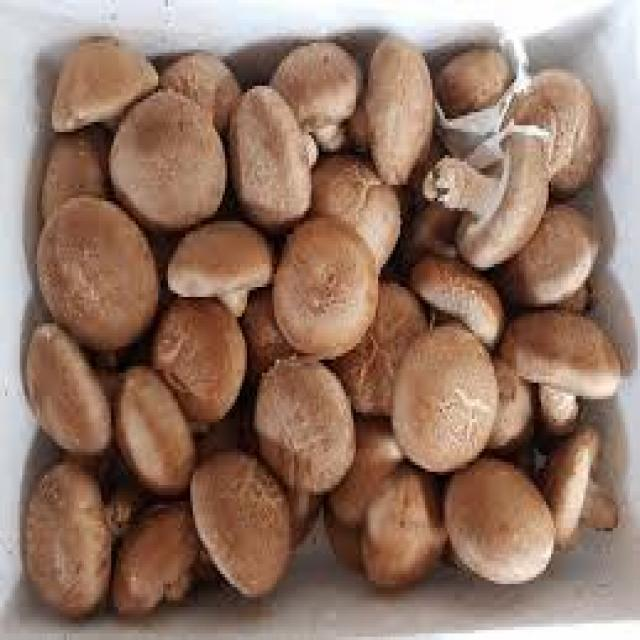mushroom: (37, 198, 158, 353), (425, 122, 551, 269), (110, 89, 228, 231), (274, 218, 381, 360), (190, 452, 292, 600), (502, 310, 623, 431), (255, 360, 358, 495), (230, 86, 317, 229), (168, 221, 274, 317)
